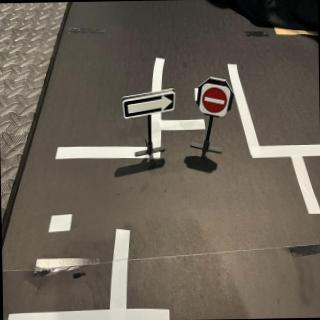sign_noentry: (199, 83, 233, 121)
sign_oneway_right: (122, 87, 177, 120)
